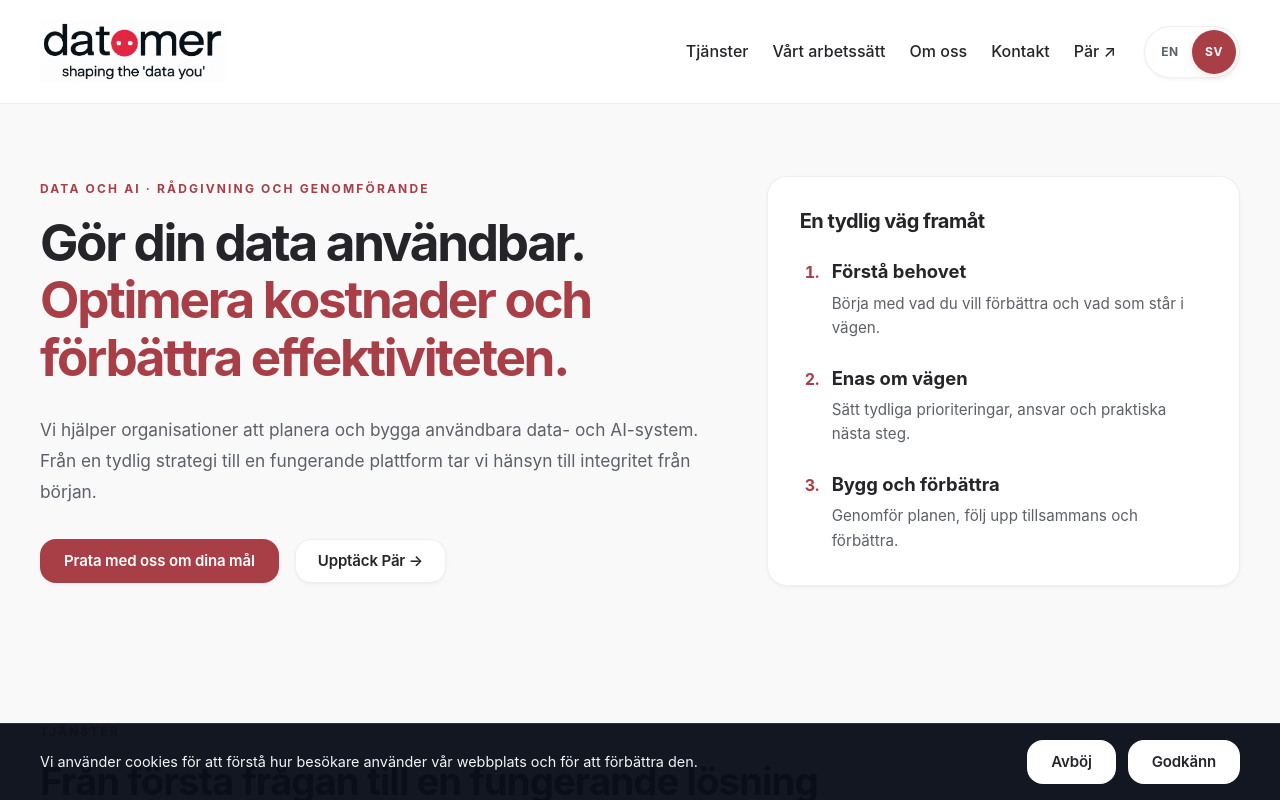
company website › supports Swedish and retains the company site when navigating to contact
Expected: the heading that starts with "Gör din data användbar." is shown, x1=40 y1=211 x2=585 y2=273
Expected: the heading that starts with "Gör din data användbar." shows "Optimera kostnader och förbättra effektiviteten.", x1=40 y1=268 x2=591 y2=388
What coordinates should you click on to do the following:
click the link "Prata med oss om dina mål"
I would click on:
 (159, 561)
Its box is x1=40 y1=539 x2=279 y2=583.
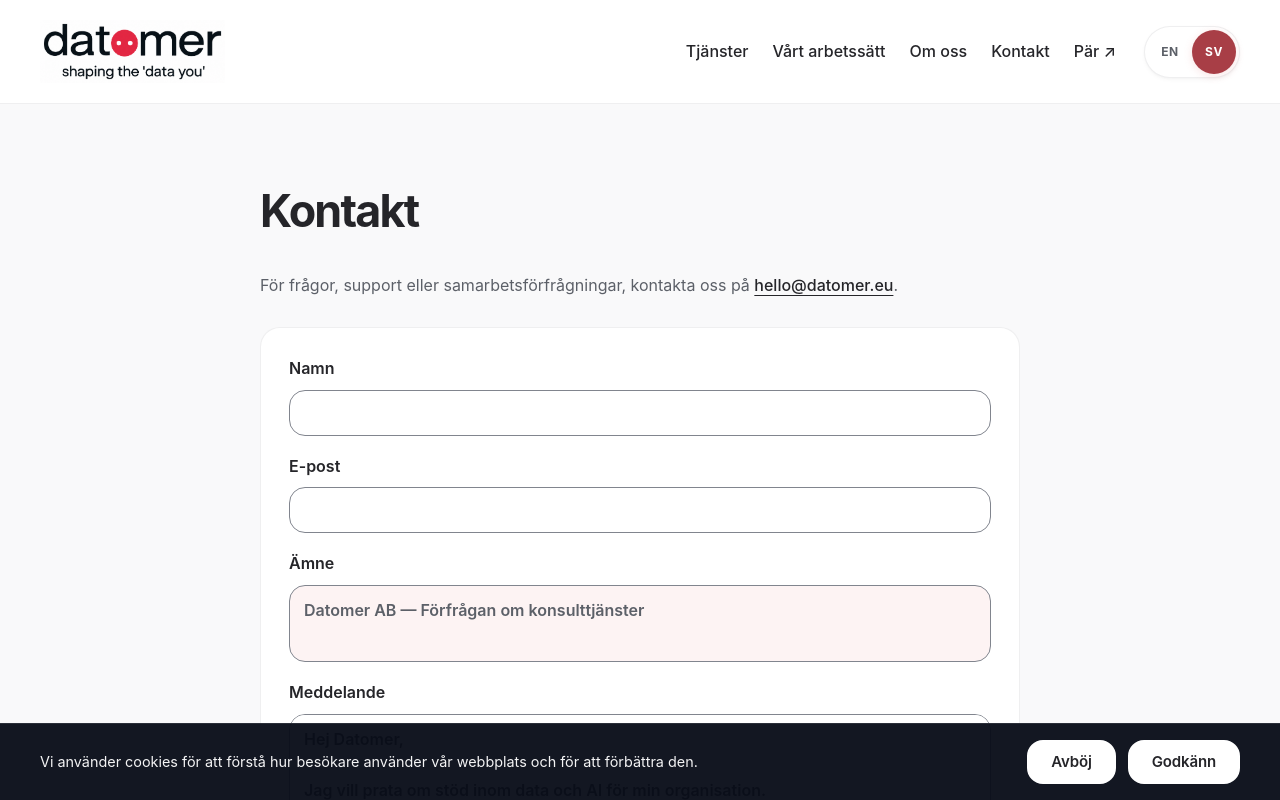
Result: the heading reads "Kontakt" at x1=260 y1=184 x2=418 y2=238
Result: the field labelled "E-post" is shown at x1=289 y1=487 x2=991 y2=533
